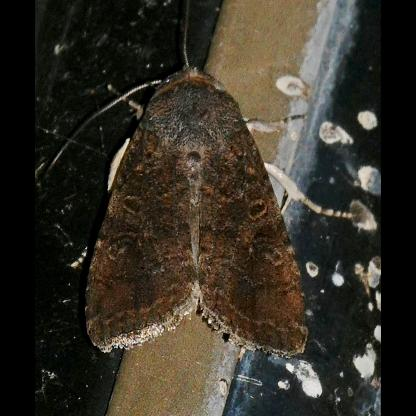Fall Armyworm Moth: (46, 1, 368, 363)
